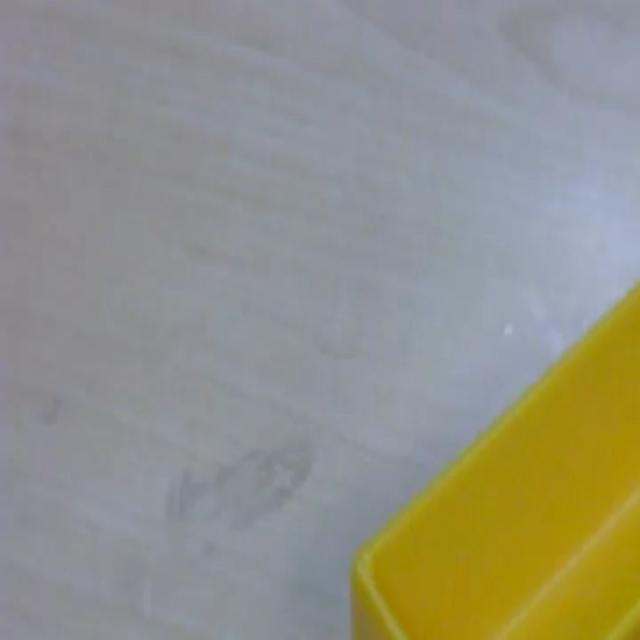yellow_block: (348, 280, 639, 637)
